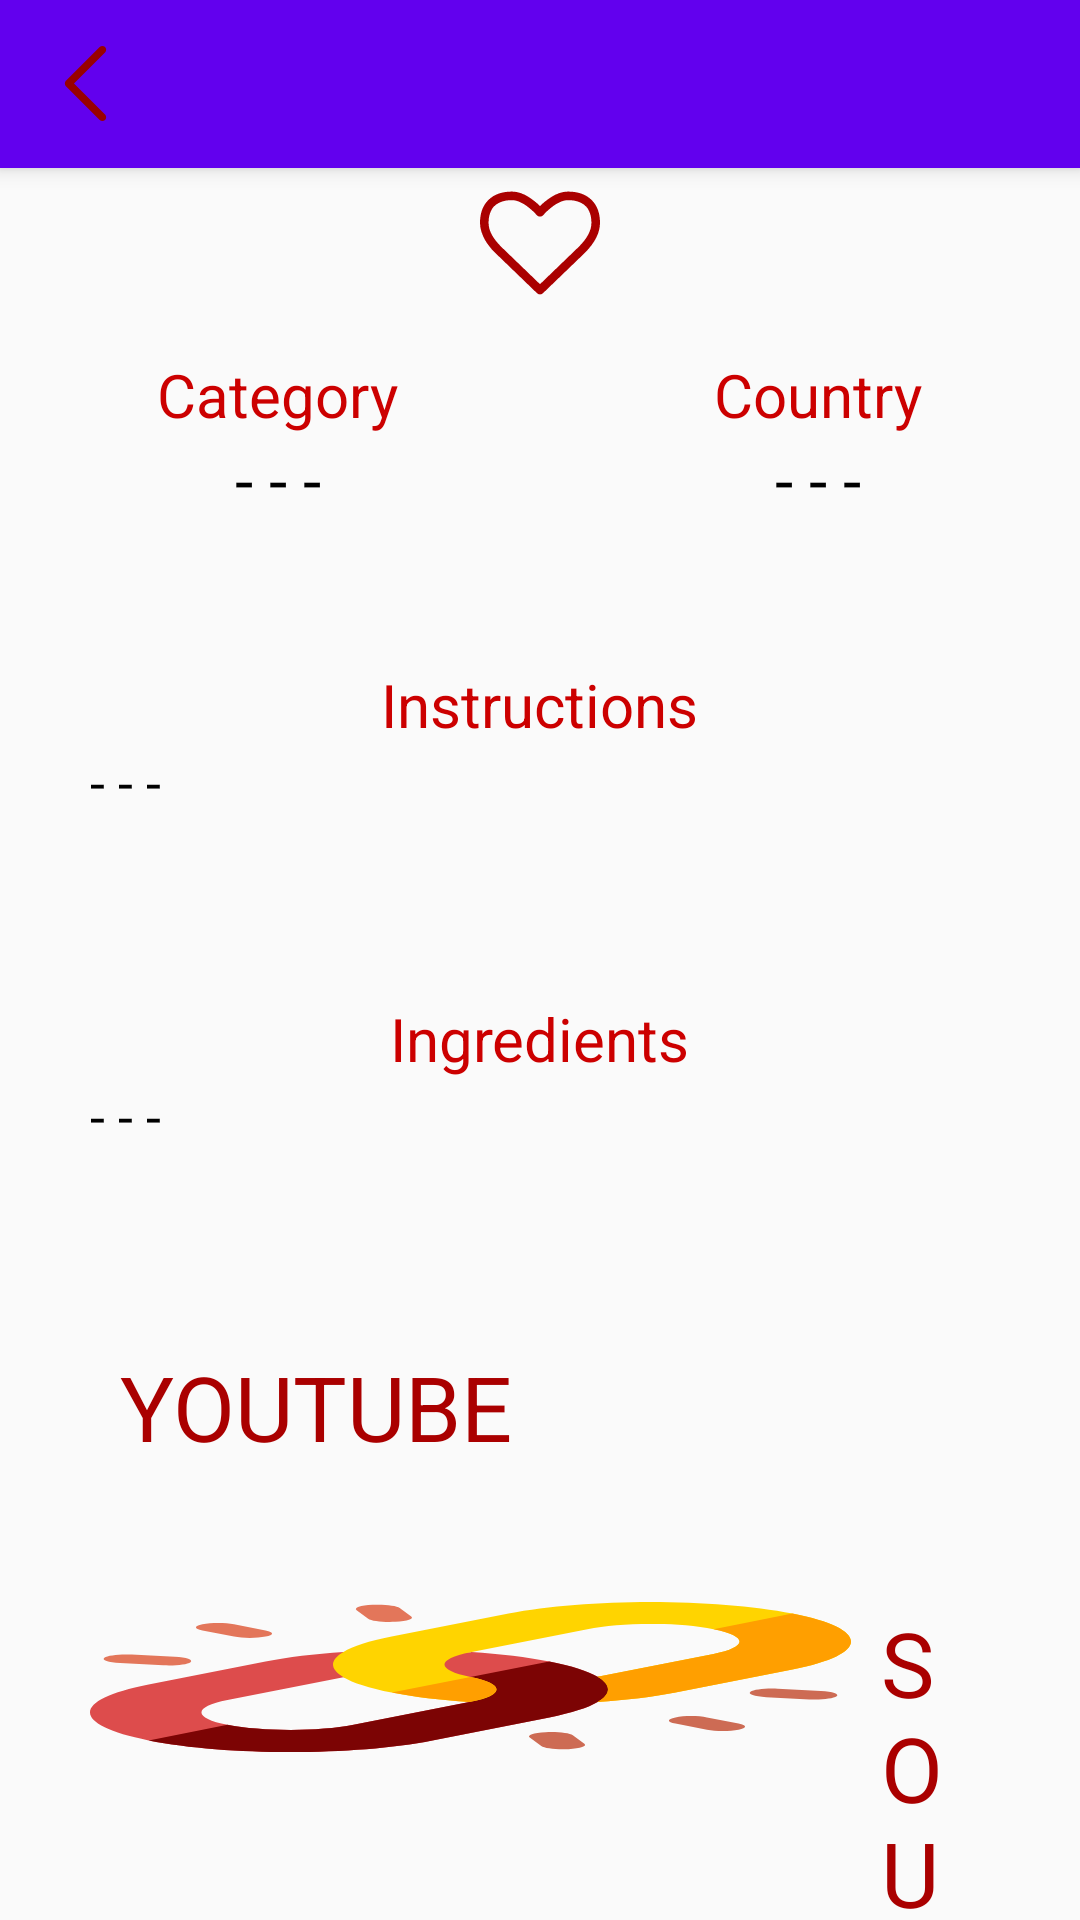

Where to tap for icons on this 1080px×1920px app screen, as (x,y):
back: (85,83)
nofav: (540,243)
